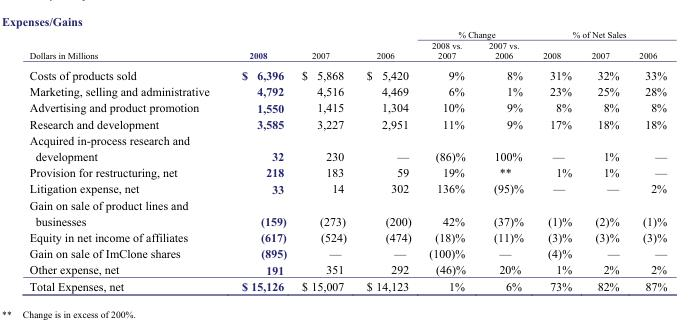table: (28, 28, 666, 292)
table column: (28, 28, 224, 292), (224, 28, 293, 292), (355, 28, 419, 292), (293, 28, 355, 292), (419, 28, 476, 292), (476, 28, 532, 292), (532, 28, 581, 292), (581, 28, 628, 292), (628, 28, 666, 292)
table column header: (28, 28, 666, 64)
table row: (28, 131, 666, 164), (28, 196, 666, 228), (28, 39, 666, 64), (28, 64, 666, 83), (28, 228, 666, 245), (28, 83, 666, 99), (28, 99, 666, 115), (28, 115, 666, 131), (28, 164, 666, 180), (28, 180, 666, 196), (28, 245, 666, 261), (28, 261, 666, 277), (28, 277, 666, 292), (28, 28, 666, 39)
table spanning cell: (28, 28, 224, 64), (224, 28, 293, 64), (355, 28, 419, 64), (293, 28, 355, 64), (532, 28, 666, 39), (419, 28, 532, 39)
